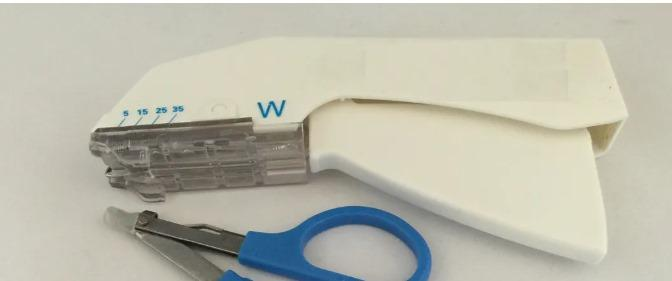Skin Stapler: (83, 30, 635, 273)
